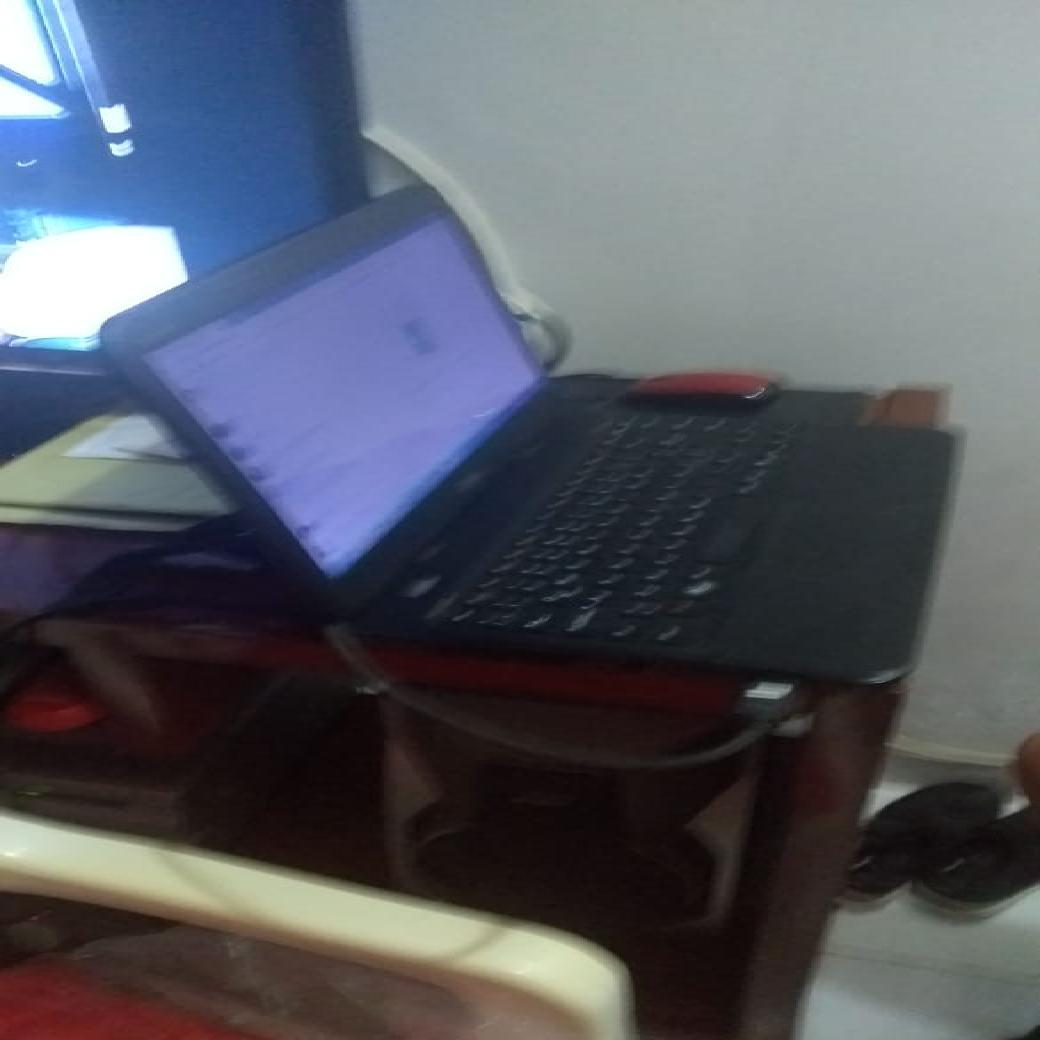laptop: (107, 175, 953, 696)
